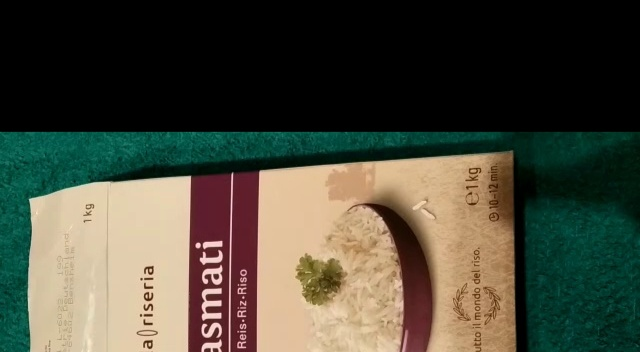basmati_rice: (20, 147, 525, 352)
